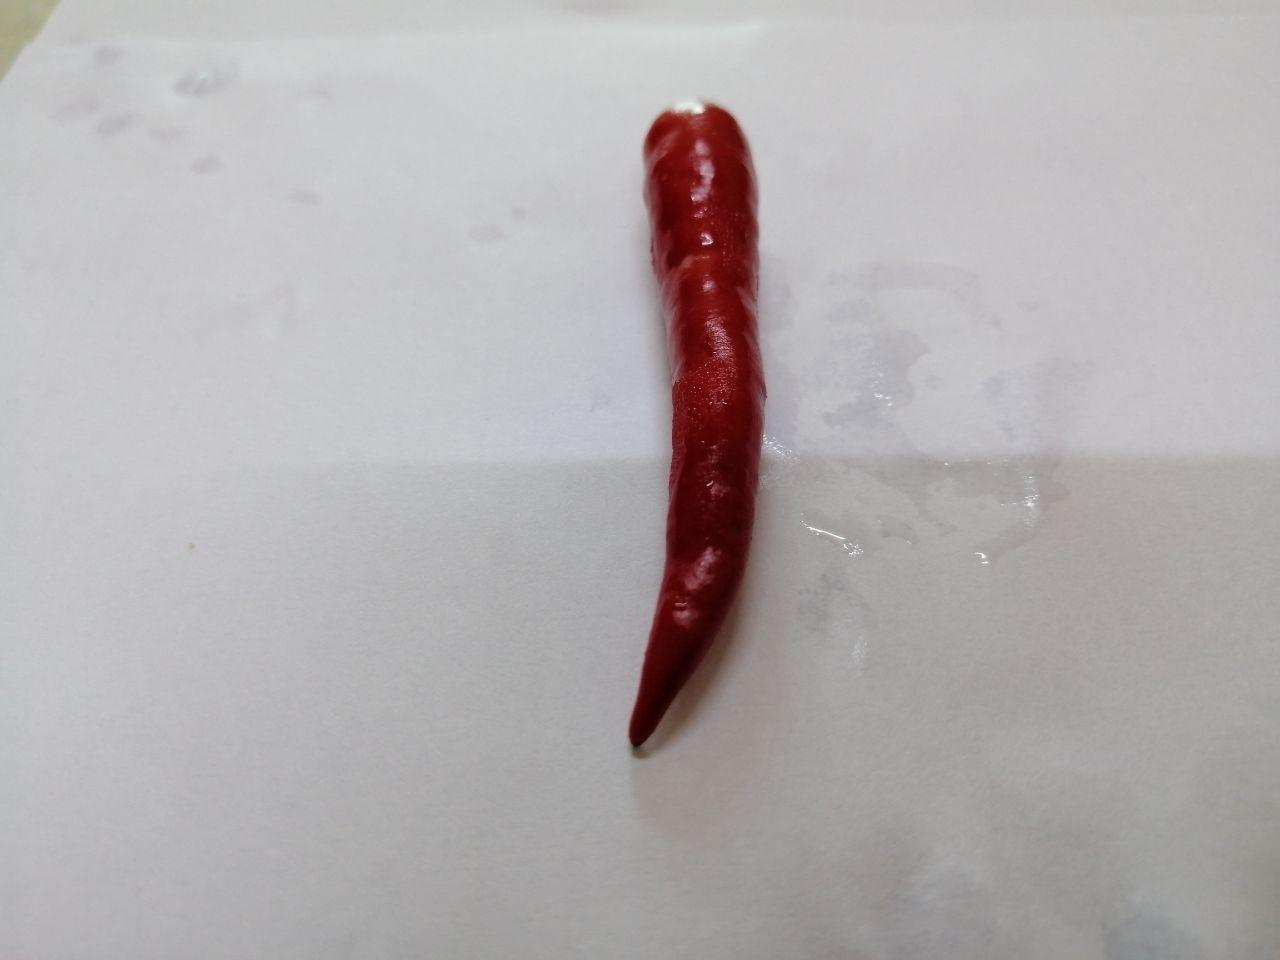lada merah: (560, 75, 809, 753)
